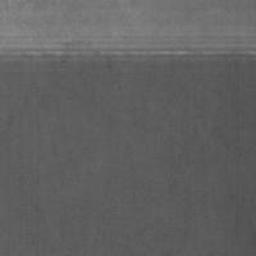Welding line: (0, 49, 255, 58)
